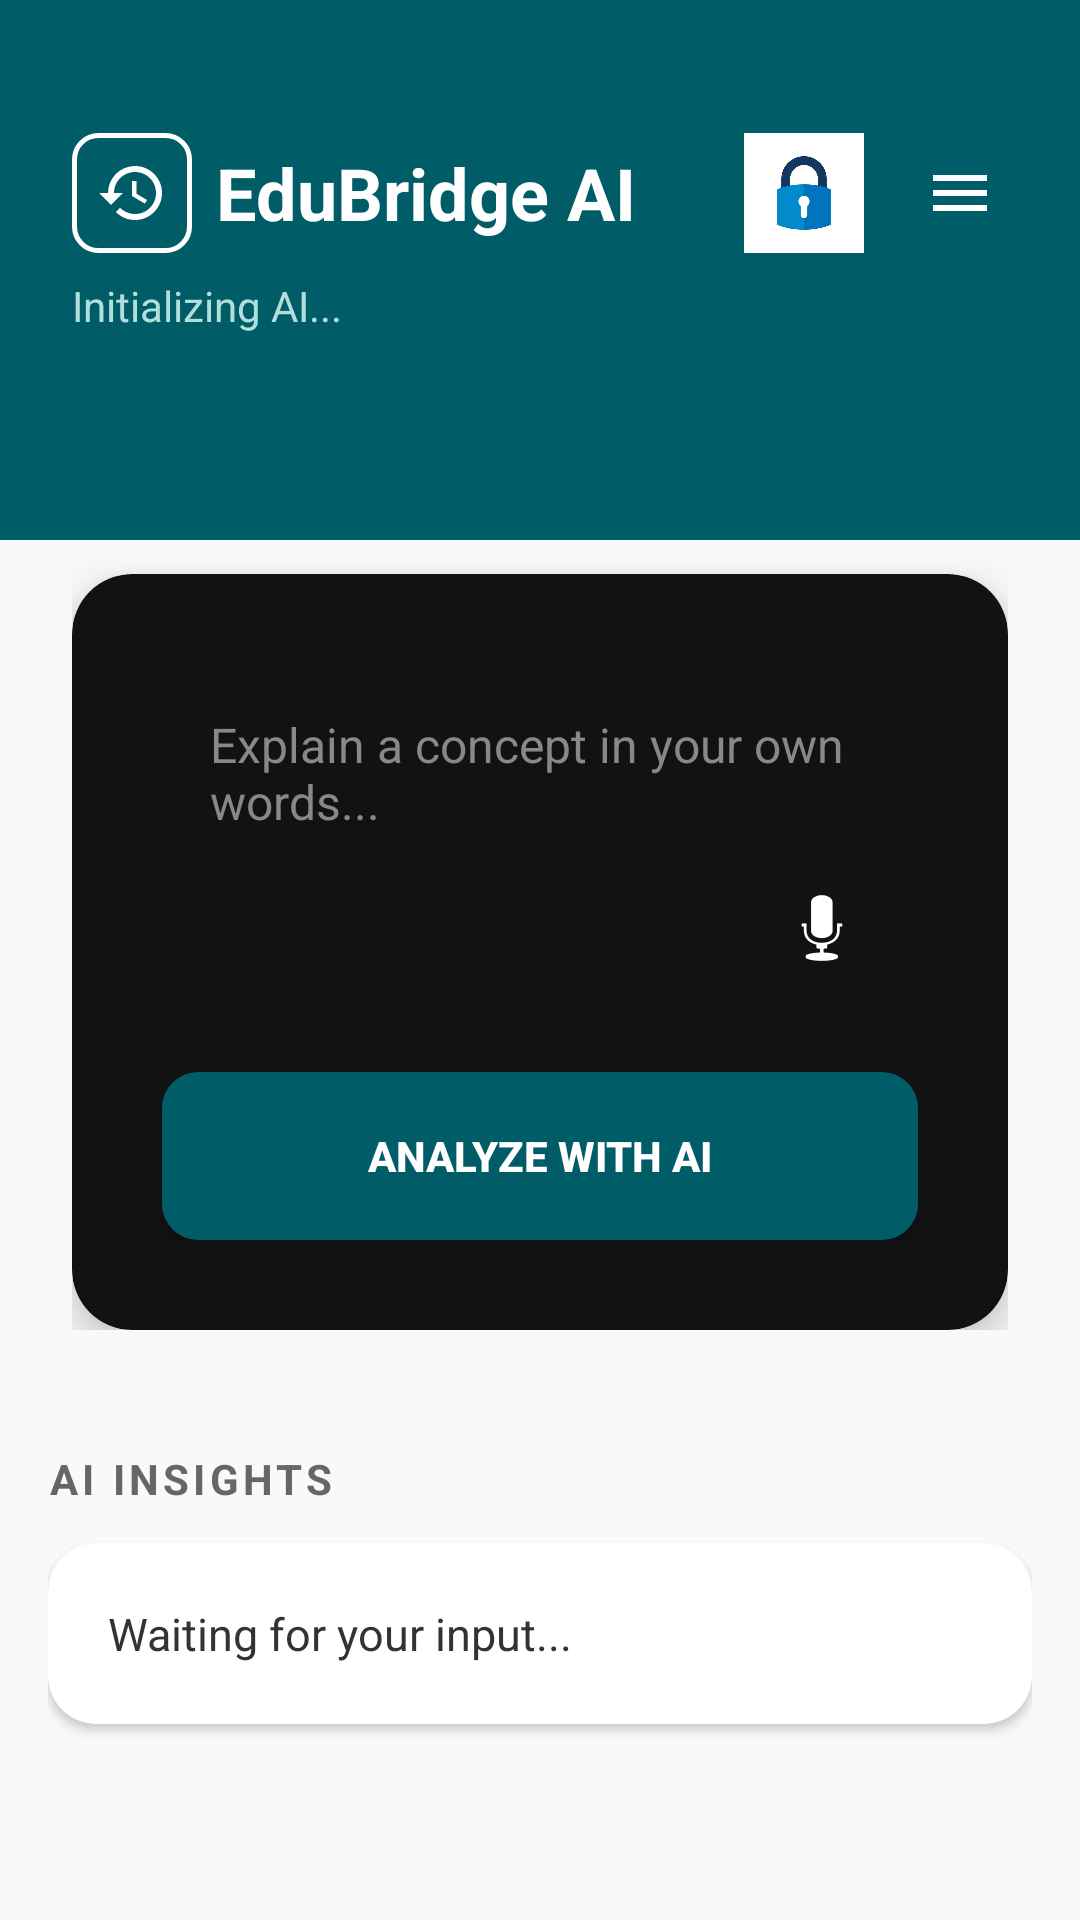

Icons on this 1080w x 1920h Android screen, each with the point to tap as [x,y]:
History: [132,193]
Lock: [804,193]
Menu: [960,193]
Voice Input: [822,928]
